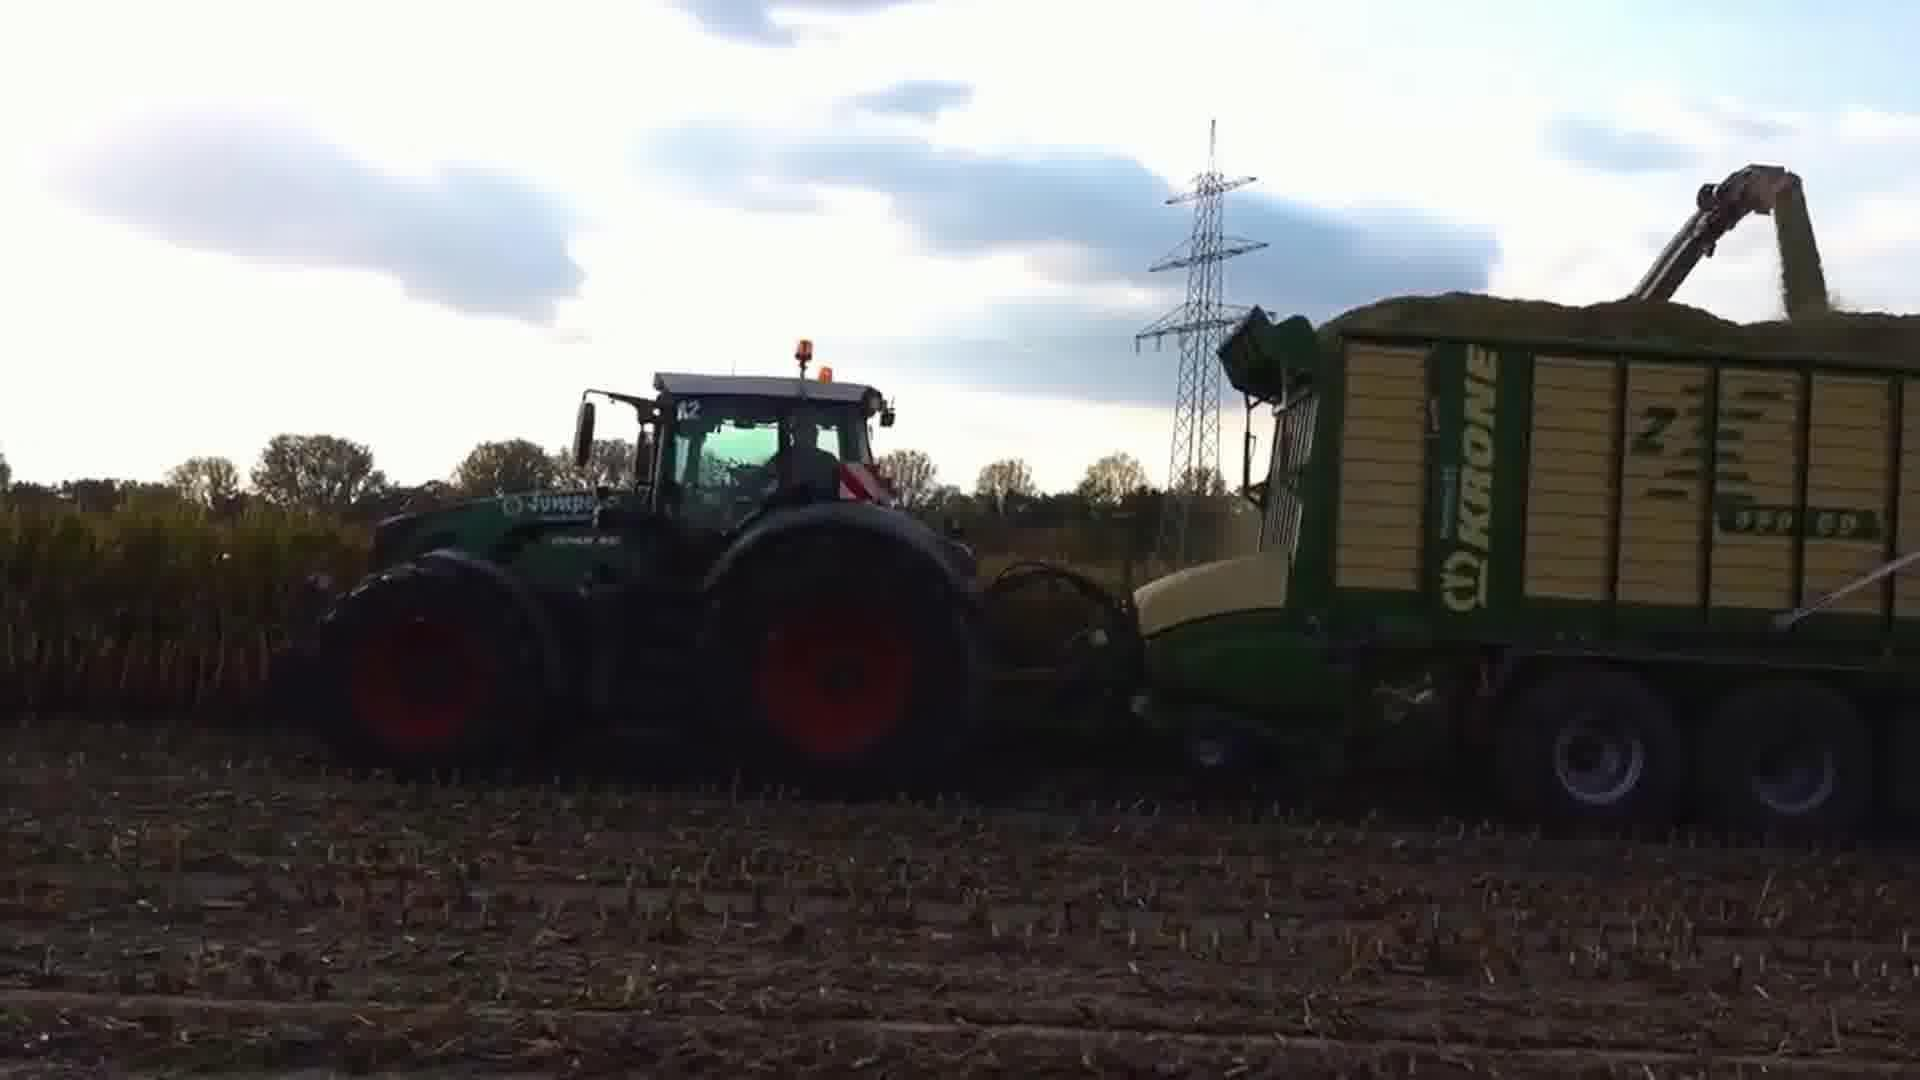tractor: (257, 323, 996, 806)
trailer: (1045, 267, 1920, 861)
